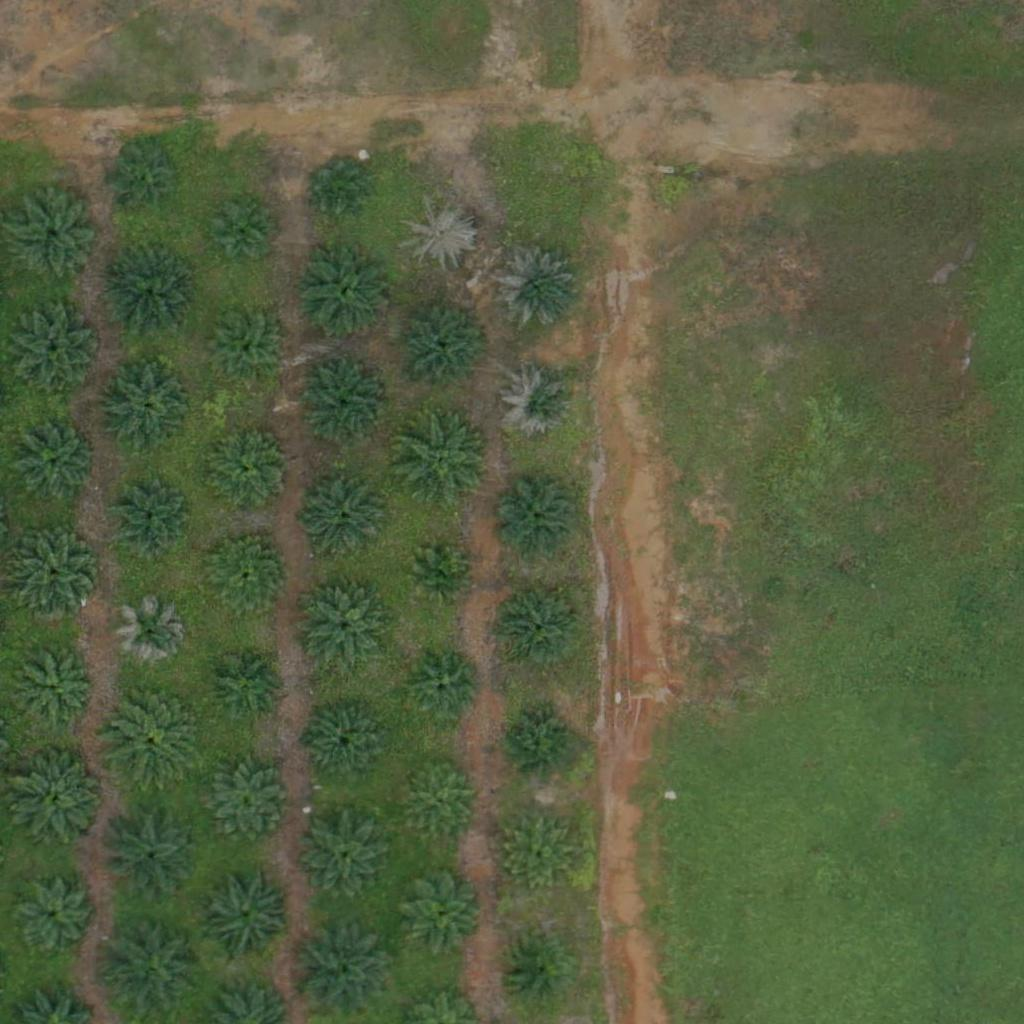Kelapa_Sawit: (4, 185, 104, 286), (106, 688, 206, 789), (289, 922, 389, 1023), (194, 753, 294, 854), (194, 863, 294, 964), (100, 803, 200, 904), (296, 243, 396, 343), (395, 297, 495, 397), (395, 411, 495, 511), (103, 919, 203, 1019), (8, 747, 108, 847), (12, 309, 100, 398), (202, 533, 290, 622), (304, 700, 392, 789), (203, 640, 291, 728), (106, 252, 194, 340), (103, 365, 191, 453), (205, 431, 293, 519), (491, 245, 579, 333), (493, 475, 581, 563), (494, 586, 582, 674), (299, 814, 387, 902), (11, 876, 99, 964), (395, 867, 482, 955), (9, 423, 96, 511), (12, 533, 99, 621), (301, 360, 388, 448), (300, 476, 387, 564), (301, 586, 388, 674), (18, 650, 93, 726), (402, 196, 477, 272), (503, 366, 578, 442), (208, 315, 283, 390), (408, 651, 483, 726), (498, 814, 573, 889), (505, 706, 580, 781), (112, 483, 187, 558), (114, 597, 189, 672), (400, 762, 475, 837), (113, 148, 176, 211), (210, 195, 273, 258), (503, 937, 566, 1000), (410, 546, 473, 609), (306, 156, 368, 218)
